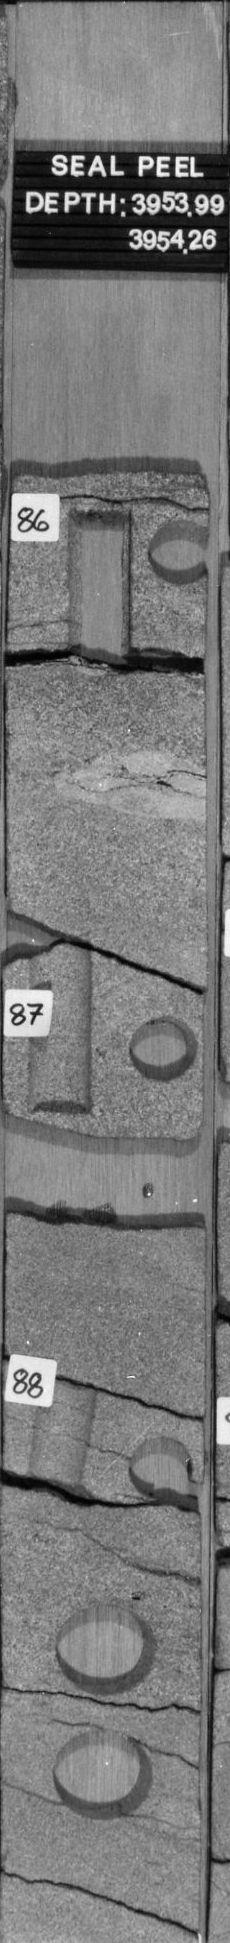hplug: (122, 1007, 200, 1088), (120, 1430, 197, 1508), (142, 512, 207, 594)
scal: (45, 1722, 160, 1827), (48, 1596, 162, 1700)
vplug: (23, 934, 106, 1126), (61, 504, 138, 668), (22, 1358, 96, 1511)
